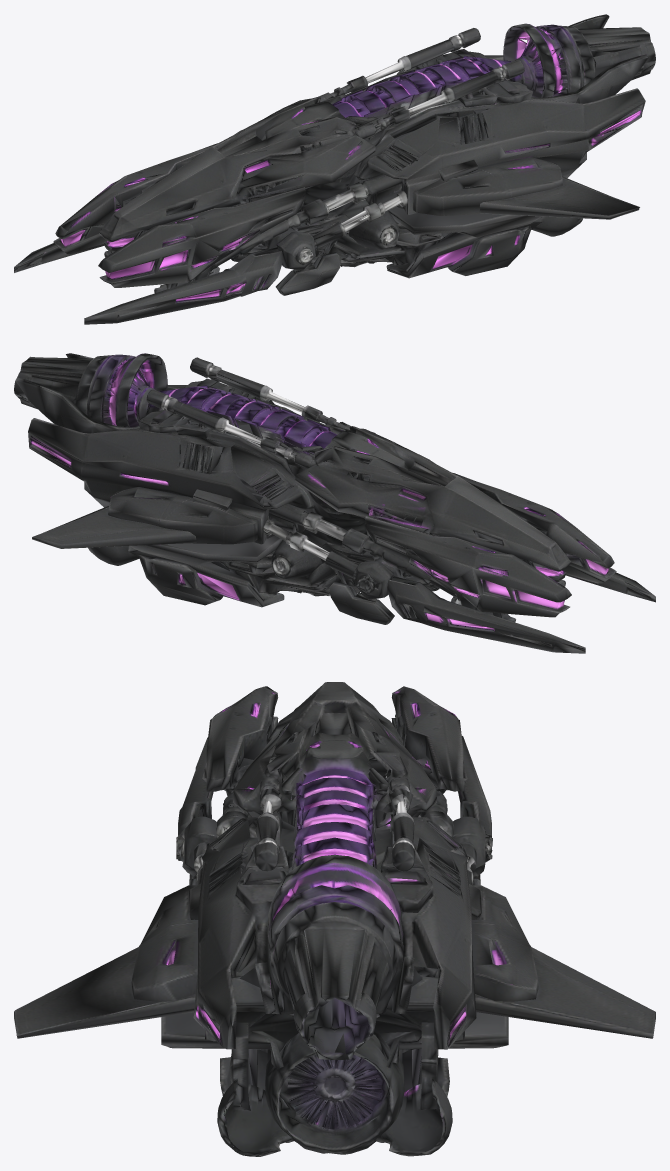
The model's file is harbor_reaper_hull.glb.
The picture shows the model from 3 angles, top to bottom: view 1: azimuth 30°, elevation 25°; view 2: azimuth 150°, elevation 25°; view 3: azimuth 270°, elevation 25°; orthographic projection. The views are drawn at different scales.
Parts seen in each view (by area): view 1: harbor_reaper_hull; view 2: harbor_reaper_hull; view 3: harbor_reaper_hull.
Part boxes in pixels (<box>): harbor_reaper_hull: <box>14,14,655,324</box>; harbor_reaper_hull: <box>14,353,655,653</box>; harbor_reaper_hull: <box>14,682,655,1156</box>.
Bounding box in the file's own units: 2.35 × 0.7987 × 1.4.
Materials: 1 (1 with a texture image).
